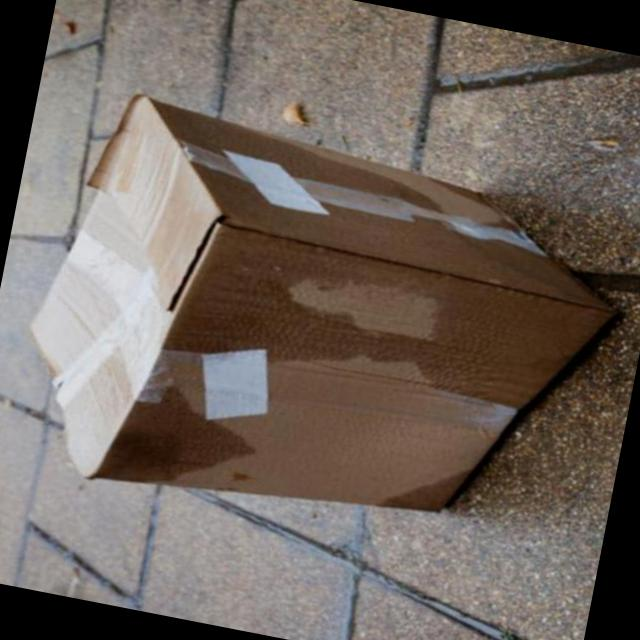box: (28, 95, 611, 513)
opened: (111, 95, 609, 412), (74, 359, 258, 483), (375, 468, 469, 516)
